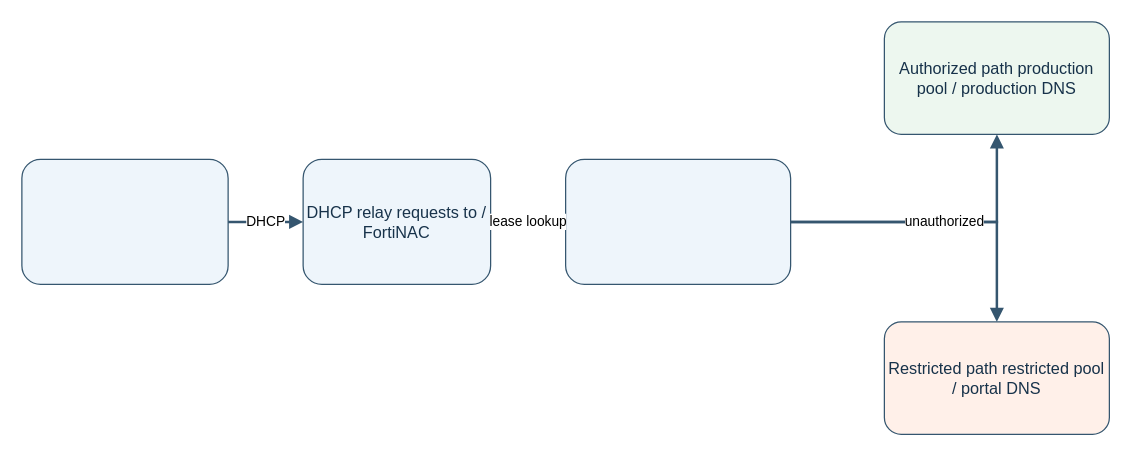
The diagram is 1131 pixels wide and 456 high, and some of its shapes have lost their labels. The shapes that lost their labels are listed below. From the top down, each one's centre as x and y in pixels, then its label:
pixel 124 221: Host behind AP shared VLAN / no per-client VLAN
pixel 677 221: FortiNAC state lease + host state / pool selection
